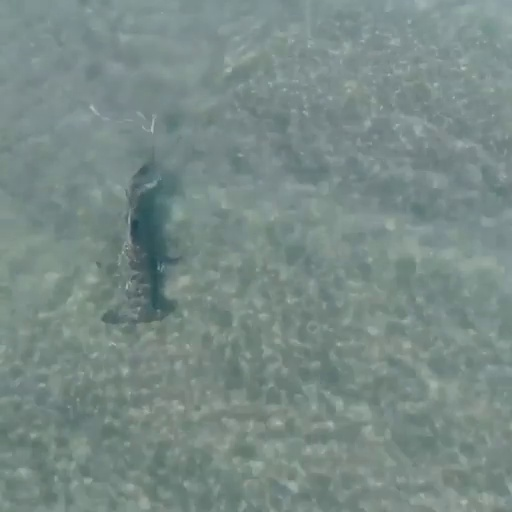shark: (99, 143, 186, 328)
